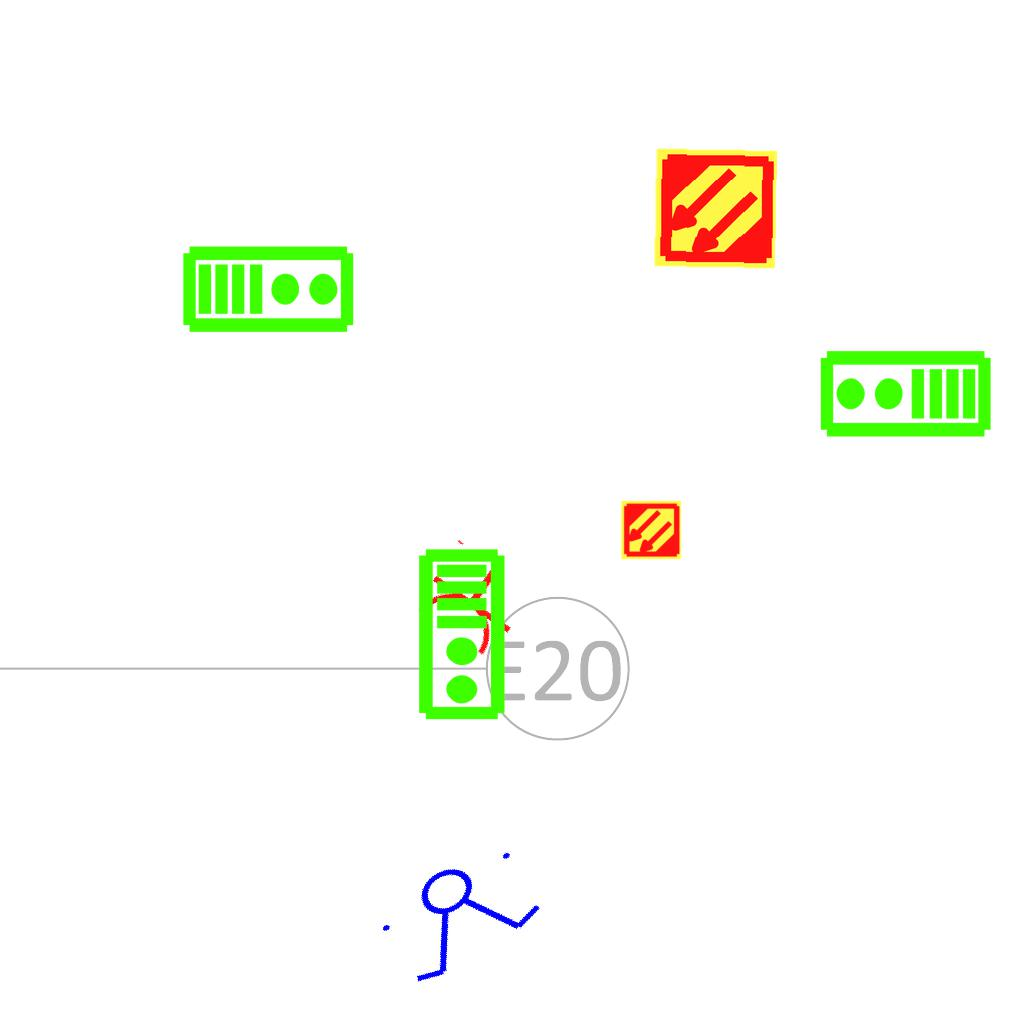ASR_Ansaugrauchmelder: (651, 144, 780, 273), (620, 499, 682, 561)
Gegensprechanlage_mit_Video: (181, 240, 357, 335), (817, 348, 993, 443), (416, 547, 511, 723)
Schukosteckdose_einfach: (406, 534, 539, 664)
Serienschalter: (364, 828, 558, 998)
